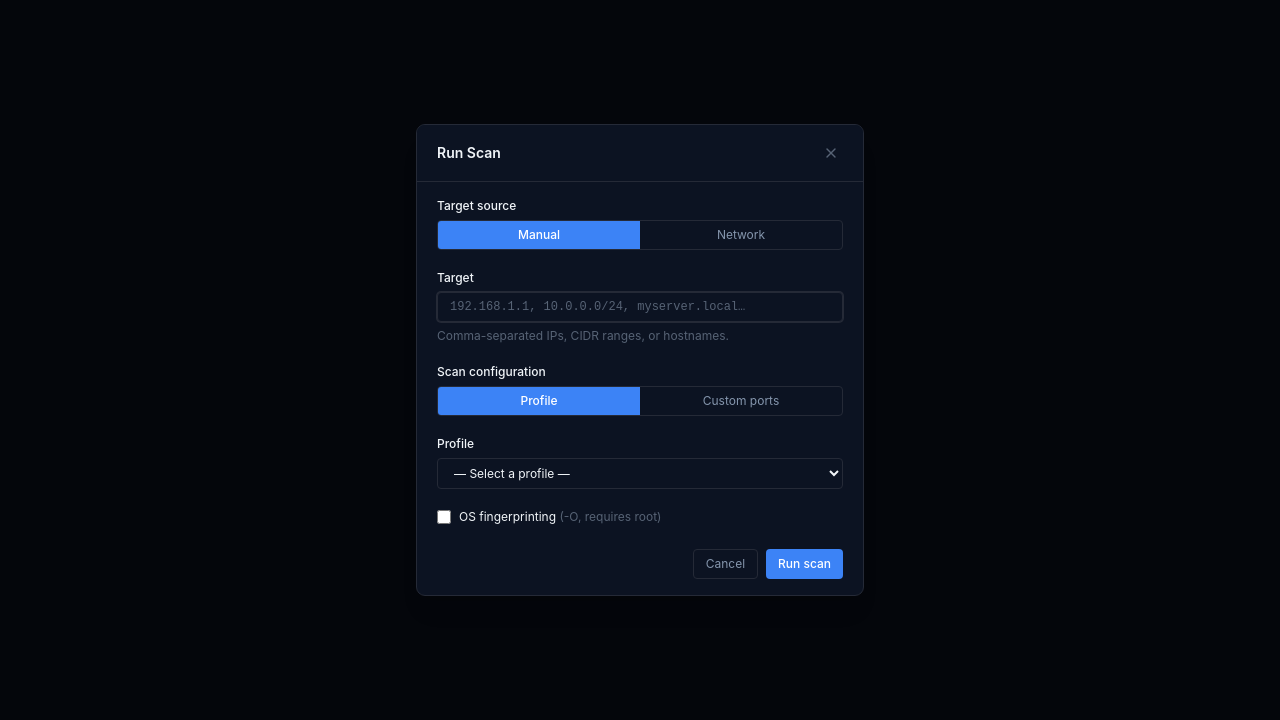
Test: RunScanModal › shows an error in profile mode when no profile is selected
The width and height of the screenshot is (1280, 720).
Type "192.168.1.1" into the field labelled "Target" at point(640, 307), box [437,292,843,322]
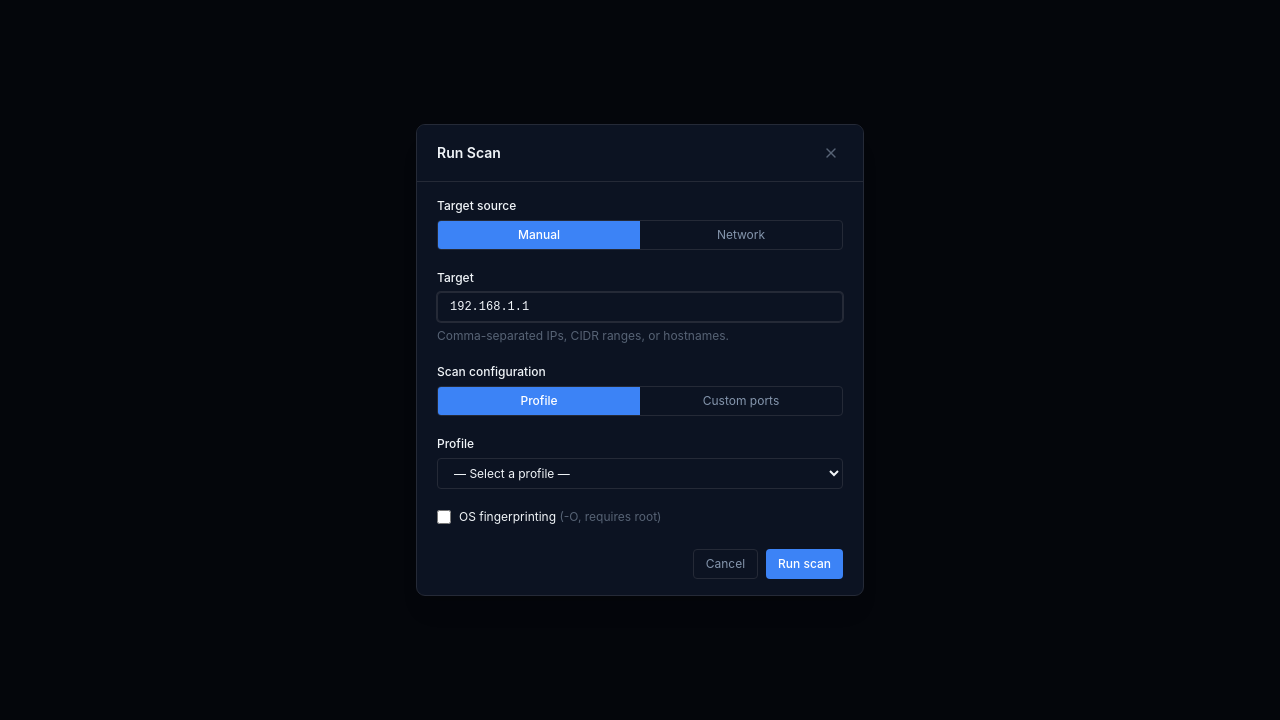
Click the button "Run scan" at point(804, 564), box [766,549,843,579]
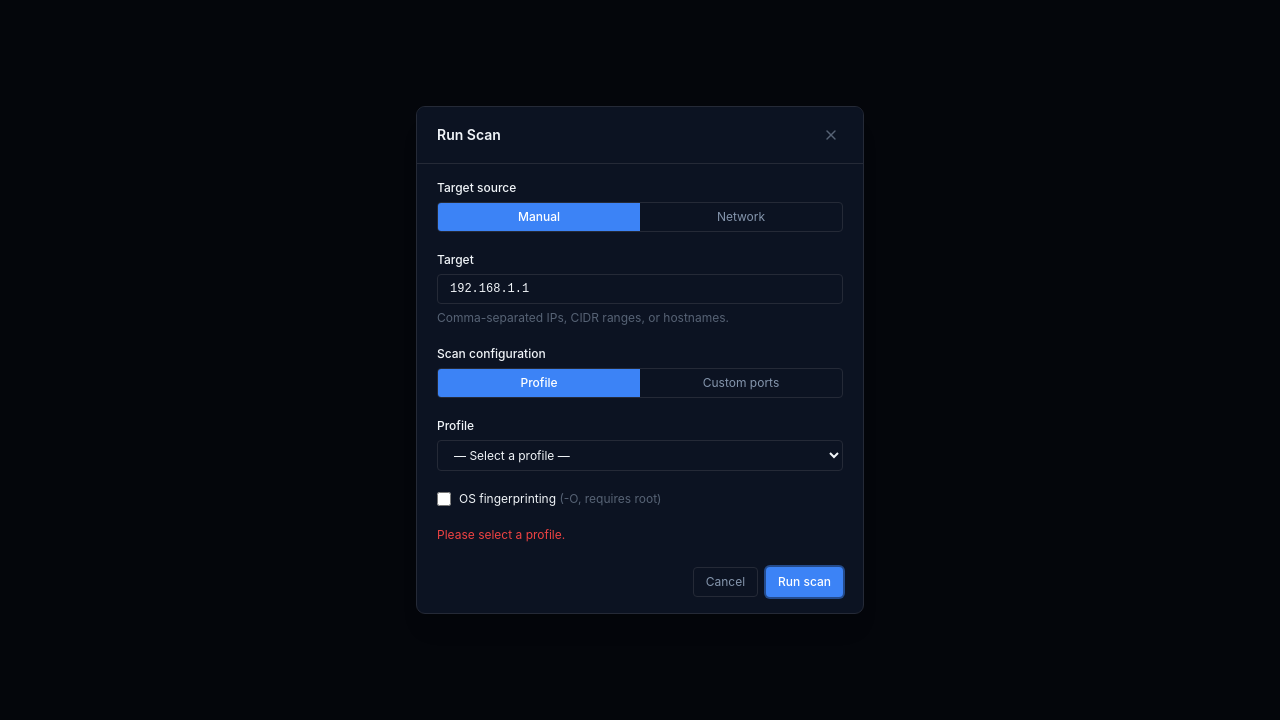
Result: the message reads "Please select a profile." at [437,527,565,542]
